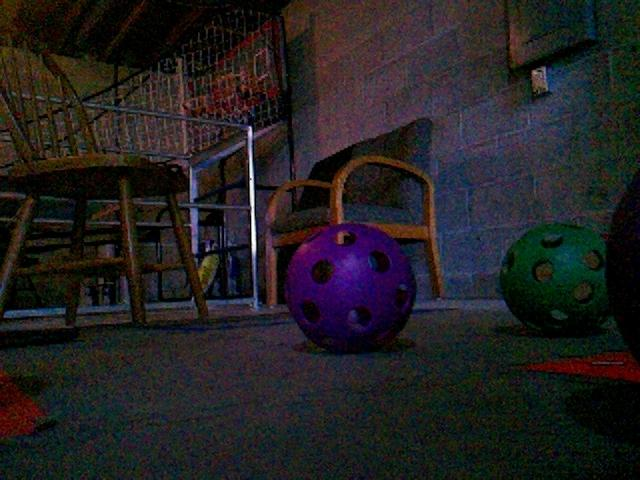Green: (497, 217, 612, 338)
Purple: (282, 220, 418, 354)
